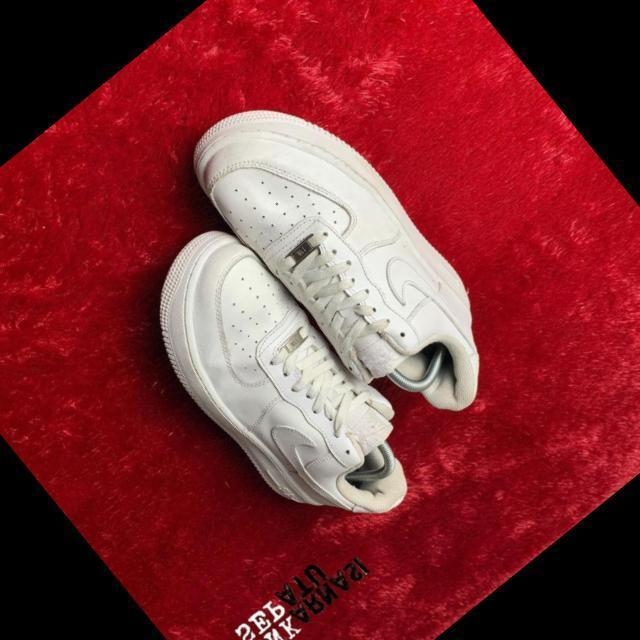nike fake air force: (172, 54, 534, 448), (116, 207, 450, 568)
